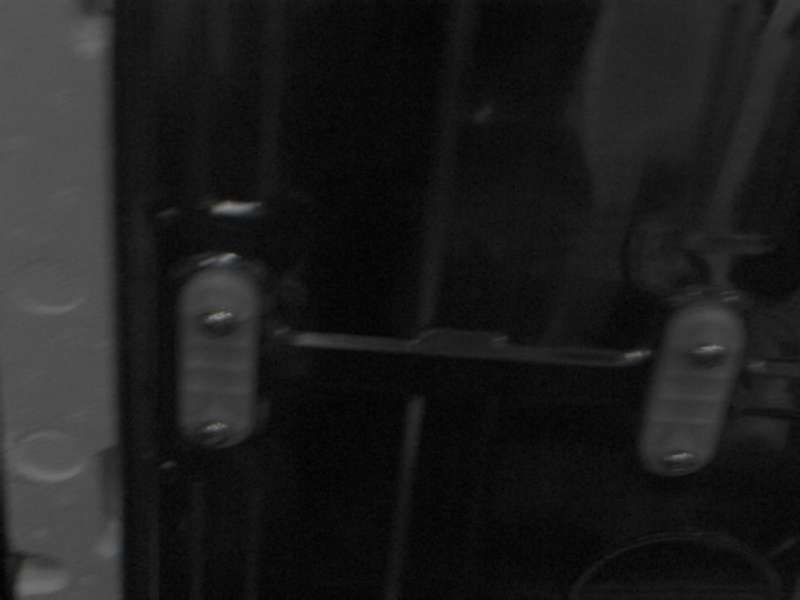screw: (199, 309, 238, 337), (194, 420, 232, 448), (687, 343, 728, 368), (662, 451, 697, 475)
